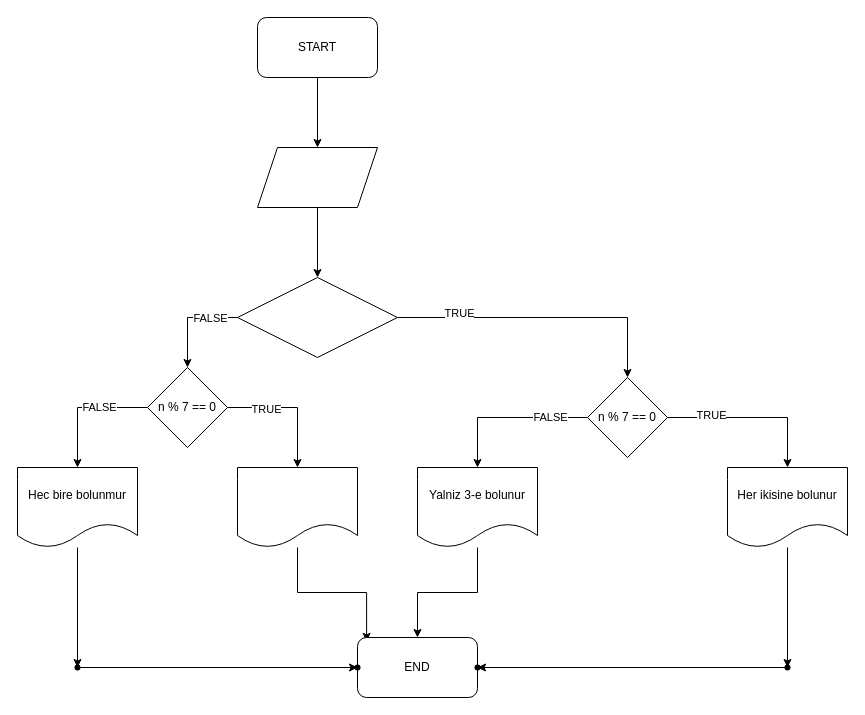
The diagram is 865 pixels wide and 715 high, and some of its shapes have lost their labels. Each missing label, with the centre of its shape:
int n: point (317, 177)
n % 3 == 0: point (317, 317)
Yalniz 7-ye bolunur: point (297, 507)
